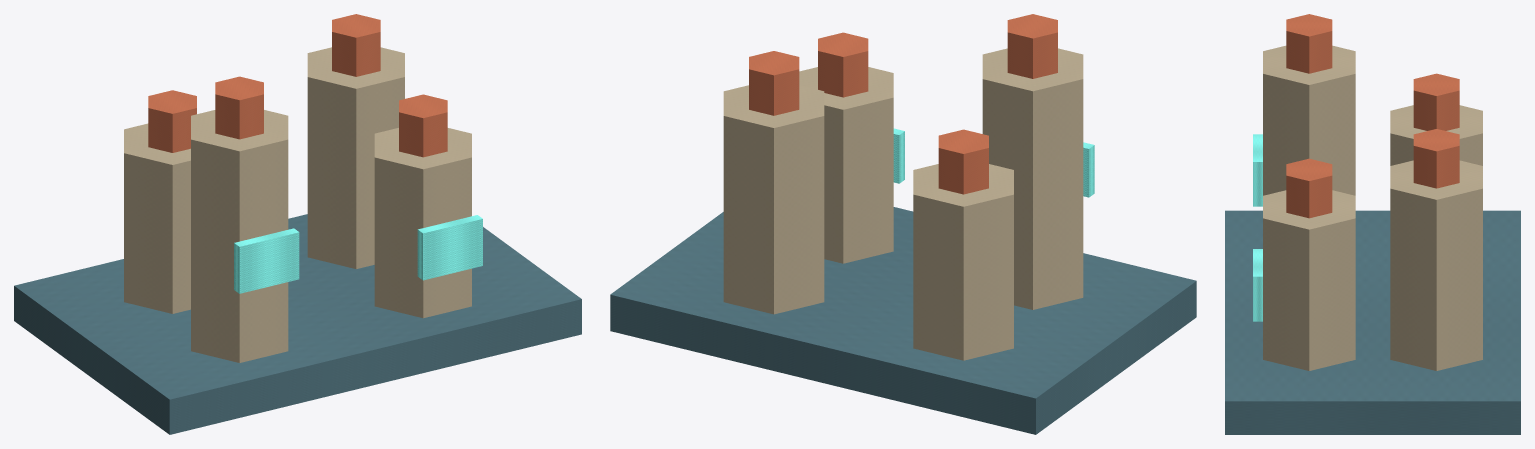
Rendered from atlas100-s041-a04.lod1.glb.
3 views of the same model, side by side, from view 1: azimuth 30°, elevation 25°; view 2: azimuth 150°, elevation 25°; view 3: azimuth 270°, elevation 25° (orthographic). The views are drawn at different scales.
Parts seen in each view (by area): view 1: atlas100-s041-a04:part-000, atlas100-s041-a04:part-007, atlas100-s041-a04:part-004, atlas100-s041-a04:part-010, atlas100-s041-a04:part-001, atlas100-s041-a04:part-012, atlas100-s041-a04:part-009, atlas100-s041-a04:part-005, atlas100-s041-a04:part-008, atlas100-s041-a04:part-011, atlas100-s041-a04:part-002; view 2: atlas100-s041-a04:part-000, atlas100-s041-a04:part-004, atlas100-s041-a04:part-007, atlas100-s041-a04:part-001, atlas100-s041-a04:part-010, atlas100-s041-a04:part-008, atlas100-s041-a04:part-002, atlas100-s041-a04:part-005, atlas100-s041-a04:part-011, atlas100-s041-a04:part-009, atlas100-s041-a04:part-012; view 3: atlas100-s041-a04:part-000, atlas100-s041-a04:part-004, atlas100-s041-a04:part-010, atlas100-s041-a04:part-007, atlas100-s041-a04:part-001, atlas100-s041-a04:part-005, atlas100-s041-a04:part-011, atlas100-s041-a04:part-008, atlas100-s041-a04:part-002, atlas100-s041-a04:part-009, atlas100-s041-a04:part-012.
Part boxes in pixels (x1,y1,x2,y2): atlas100-s041-a04:part-000: (14,214,581,434); atlas100-s041-a04:part-007: (191,110,288,362); atlas100-s041-a04:part-004: (307,47,404,269); atlas100-s041-a04:part-010: (374,128,471,318); atlas100-s041-a04:part-001: (124,123,190,313); atlas100-s041-a04:part-012: (417,215,482,280); atlas100-s041-a04:part-009: (234,228,299,293); atlas100-s041-a04:part-005: (332,14,380,76); atlas100-s041-a04:part-008: (215,76,263,139); atlas100-s041-a04:part-011: (399,94,447,157); atlas100-s041-a04:part-002: (148,90,196,152); atlas100-s041-a04:part-000: (610,207,1196,434); atlas100-s041-a04:part-004: (723,85,824,314); atlas100-s041-a04:part-007: (982,48,1083,309); atlas100-s041-a04:part-001: (913,164,1013,360); atlas100-s041-a04:part-010: (799,67,893,263); atlas100-s041-a04:part-008: (1007,14,1057,78); atlas100-s041-a04:part-002: (938,129,988,194); atlas100-s041-a04:part-005: (749,51,799,115); atlas100-s041-a04:part-011: (818,32,868,97); atlas100-s041-a04:part-009: (1083,142,1094,197); atlas100-s041-a04:part-012: (893,128,904,183); atlas100-s041-a04:part-000: (1225,210,1520,434); atlas100-s041-a04:part-004: (1390,160,1482,370); atlas100-s041-a04:part-010: (1263,190,1355,370); atlas100-s041-a04:part-007: (1263,45,1355,195); atlas100-s041-a04:part-001: (1390,105,1482,165); atlas100-s041-a04:part-005: (1413,129,1459,188); atlas100-s041-a04:part-011: (1286,158,1332,218); atlas100-s041-a04:part-008: (1286,14,1332,73); atlas100-s041-a04:part-002: (1413,73,1459,130); atlas100-s041-a04:part-009: (1253,134,1262,206); atlas100-s041-a04:part-012: (1253,249,1262,321).
Bounding box in the file's own units: 1.18 × 0.7804 × 0.7697.
4 materials, 4 textured.
